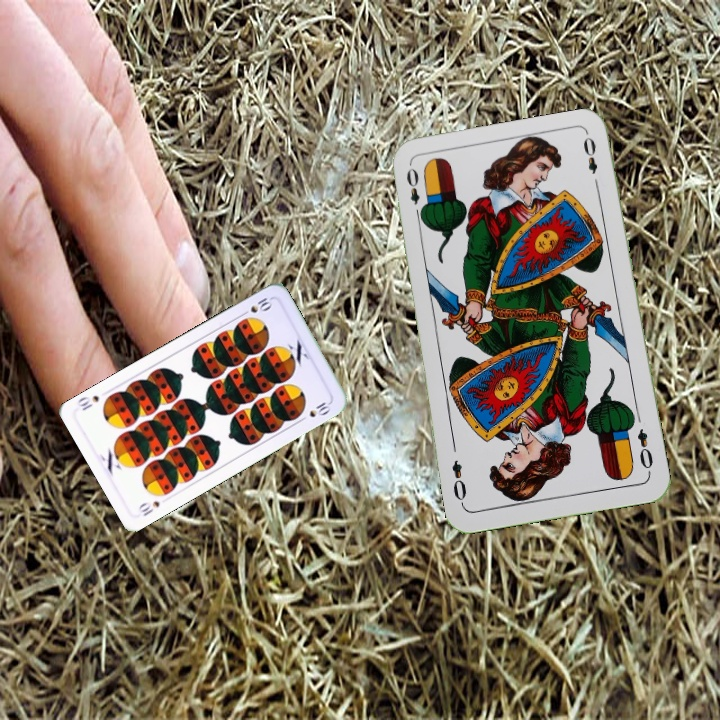EO: (402, 164, 427, 222), (633, 425, 656, 476)
S10: (237, 293, 276, 319), (134, 497, 163, 519)
